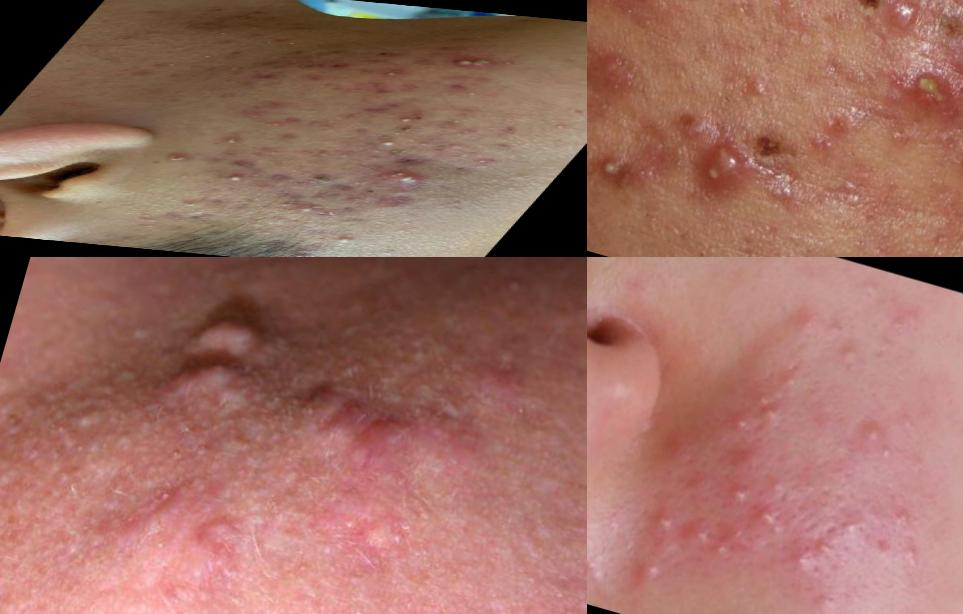blackhead: (171, 197, 224, 212)
cystic: (320, 410, 368, 457), (296, 369, 337, 413)
keloid: (177, 281, 278, 374), (155, 342, 264, 421)
papular: (466, 355, 542, 417), (873, 1, 937, 49), (802, 523, 850, 569), (757, 464, 798, 507), (941, 11, 963, 78), (858, 413, 893, 453), (666, 433, 702, 471), (725, 440, 761, 478), (793, 302, 826, 342), (807, 583, 849, 614)
purulent: (588, 137, 638, 197), (748, 384, 789, 432), (685, 512, 724, 554), (638, 549, 675, 590), (750, 499, 787, 540), (650, 502, 685, 542), (723, 476, 759, 510), (785, 544, 820, 578), (207, 170, 273, 188), (730, 408, 762, 443), (706, 537, 740, 568), (360, 136, 423, 152), (319, 232, 371, 249), (153, 150, 204, 166), (375, 67, 417, 81), (210, 134, 252, 148), (389, 116, 427, 127)
sebo-crystan-conglo: (881, 54, 963, 128), (687, 122, 757, 205), (588, 42, 659, 104), (244, 196, 354, 221), (366, 167, 452, 190), (440, 52, 516, 73)
whitehead: (889, 403, 926, 443), (881, 309, 919, 346), (835, 509, 870, 549), (687, 465, 724, 502), (869, 437, 907, 473), (831, 336, 864, 377), (888, 499, 920, 530), (588, 549, 611, 591), (856, 274, 887, 303), (450, 153, 508, 167), (904, 539, 931, 569), (379, 186, 429, 201), (214, 63, 256, 78), (537, 122, 584, 134), (370, 246, 417, 258)
